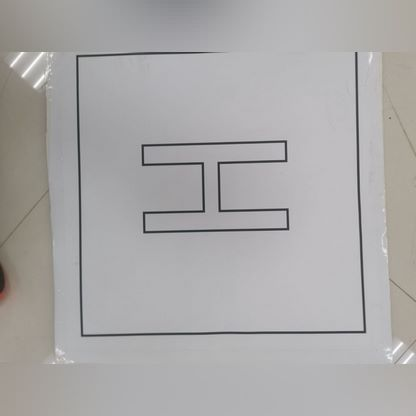H: (121, 117, 310, 253)
